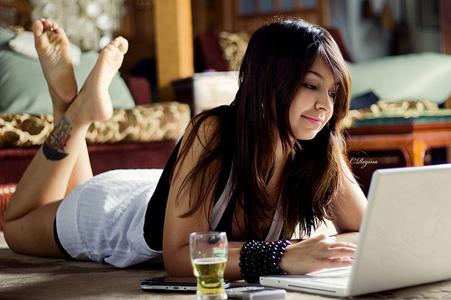person: (3, 19, 369, 281)
